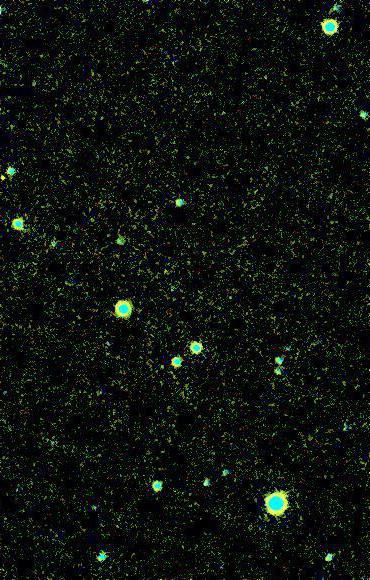star: (0, 162, 19, 192)
